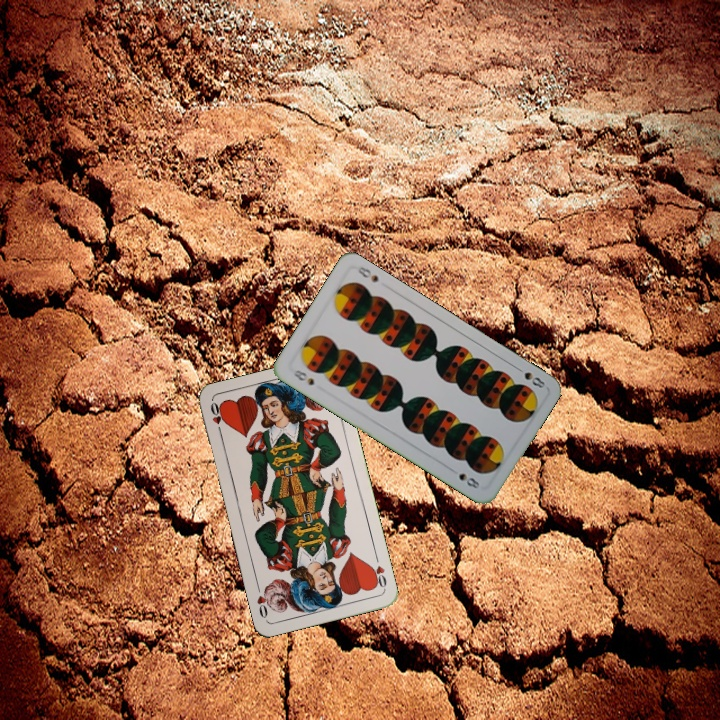HO: (367, 551, 389, 592), (206, 398, 226, 438)
S8: (511, 363, 548, 391), (289, 366, 317, 388)
